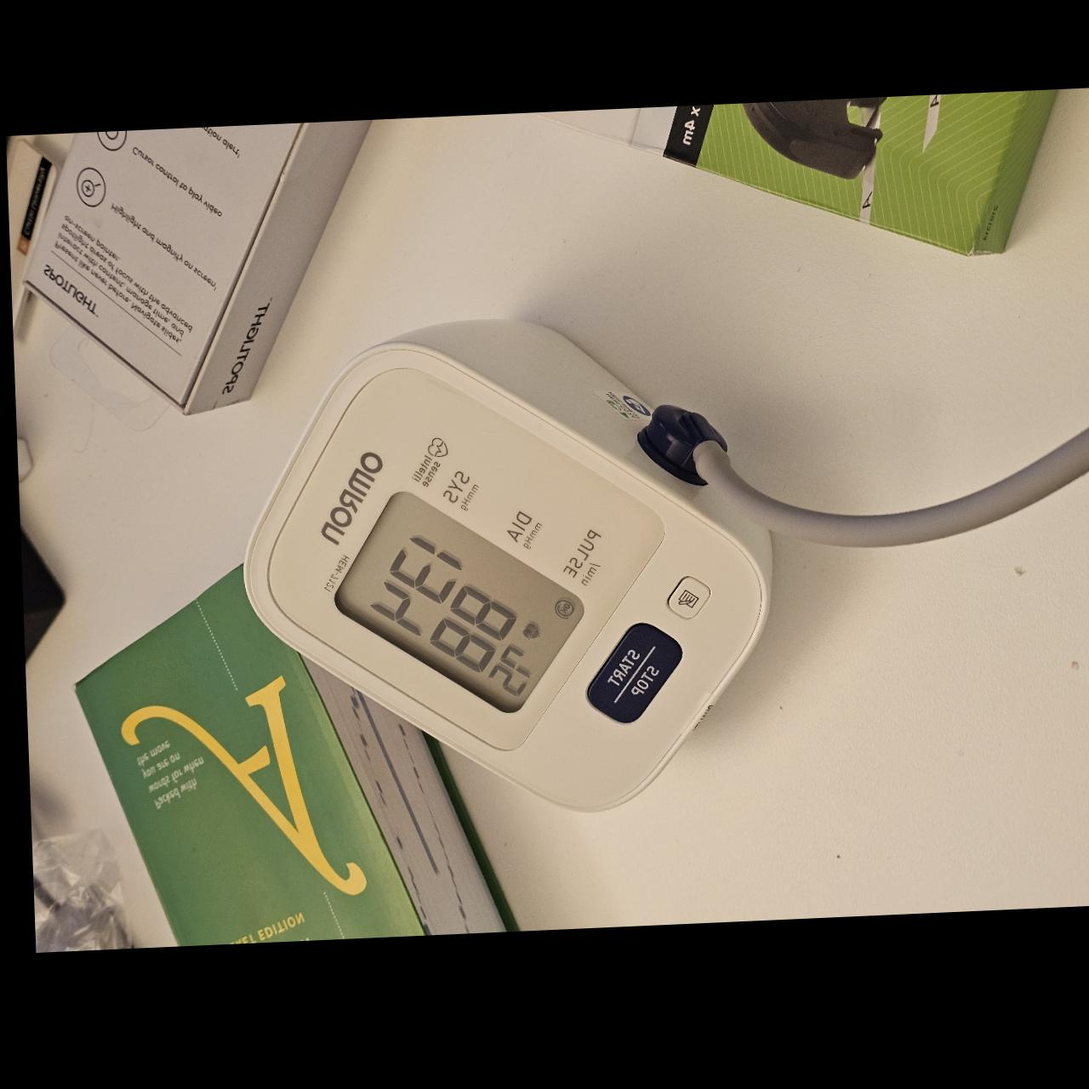blood pressure monitor: (234, 305, 783, 836)
